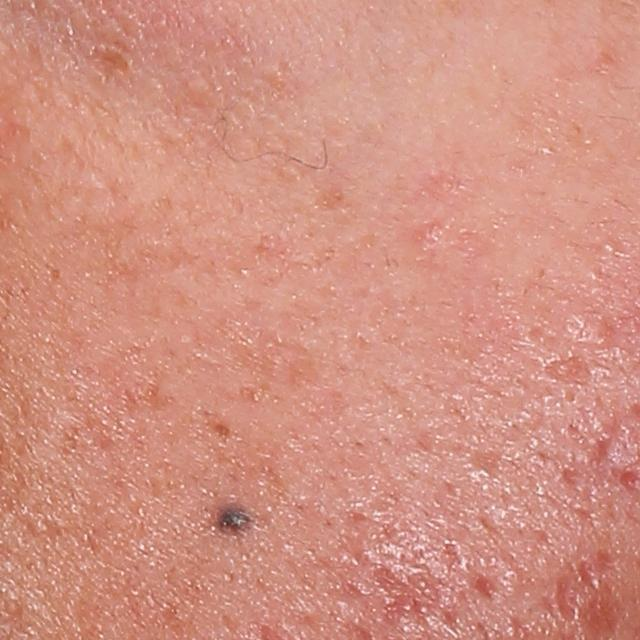atrophic_scar: (366, 566, 446, 623), (535, 353, 599, 390), (468, 442, 511, 477), (472, 566, 509, 606)
nevus: (211, 497, 264, 540)
